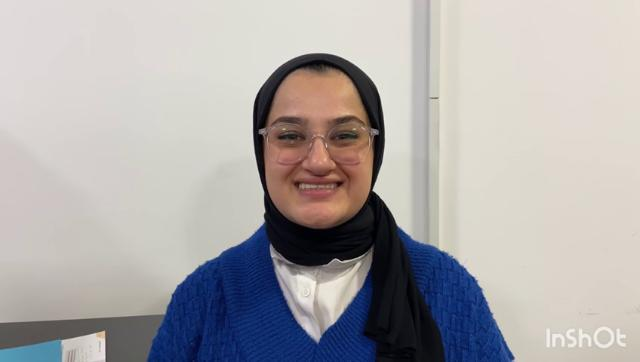senang: (258, 59, 382, 236)
